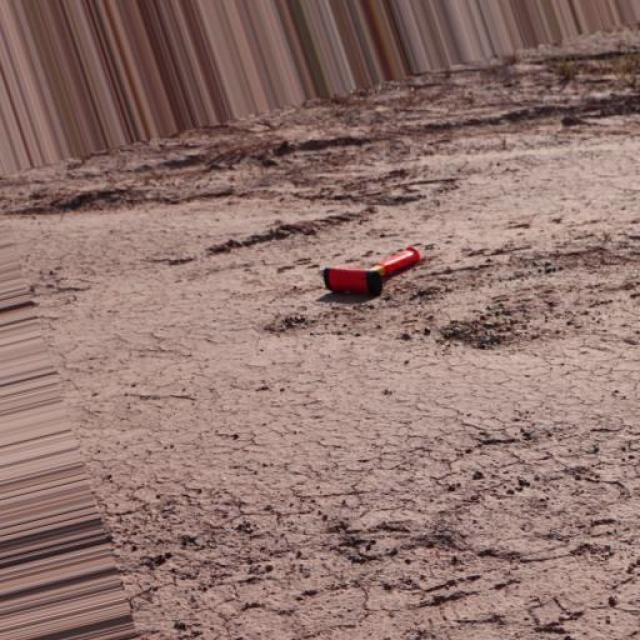mallet: (322, 244, 423, 296)
